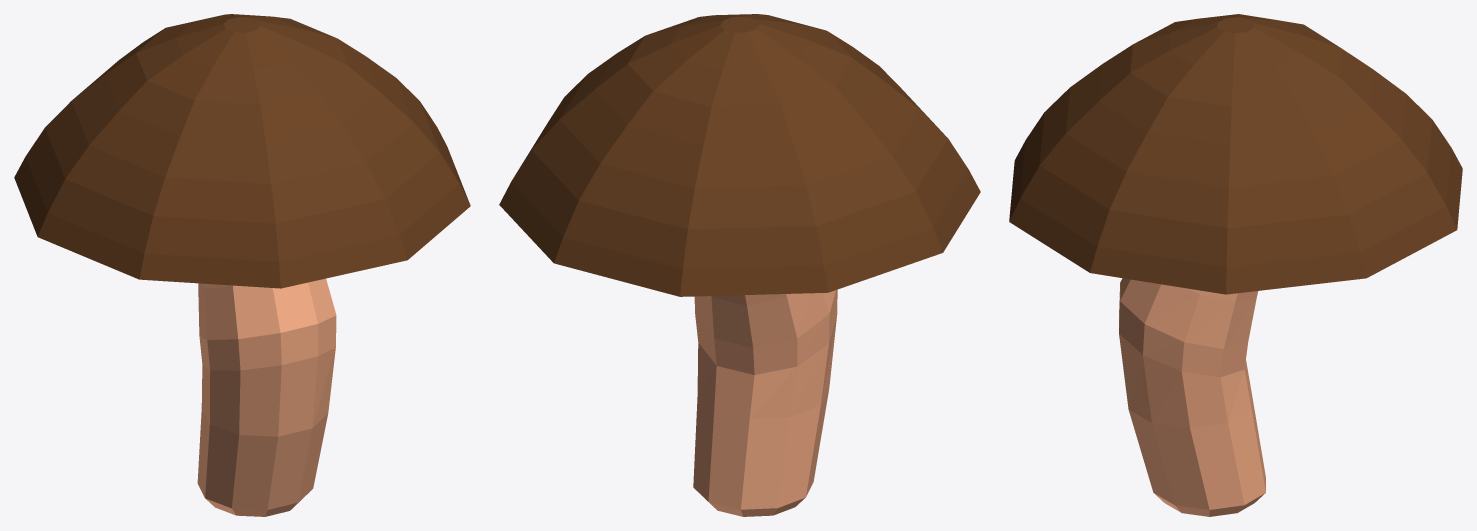
Rendered from mushroom_03.fbx.
3 views of the same model, side by side, from view 1: azimuth 30°, elevation 25°; view 2: azimuth 150°, elevation 25°; view 3: azimuth 270°, elevation 25° (orthographic). The views are drawn at different scales.
Parts seen in each view (by area): view 1: Cylinder001; view 2: Cylinder001; view 3: Cylinder001.
Boxes of the visible parts, bbox=[...] form: Cylinder001: bbox=[14, 14, 470, 516]; Cylinder001: bbox=[499, 14, 980, 516]; Cylinder001: bbox=[1009, 14, 1462, 516].
Bounding box in the file's own units: 173 × 191 × 167.
